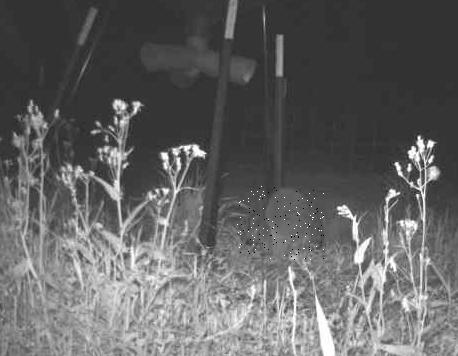Raccoon: (237, 186, 324, 260)
